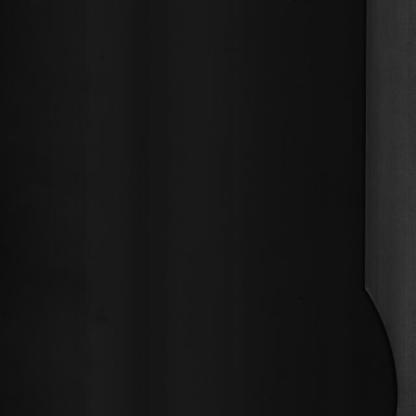crescent_gap: (360, 278, 402, 416)
